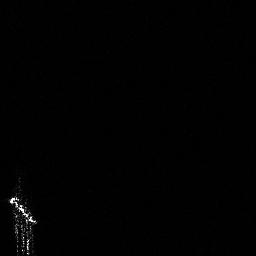ship: (5, 189, 42, 256)
